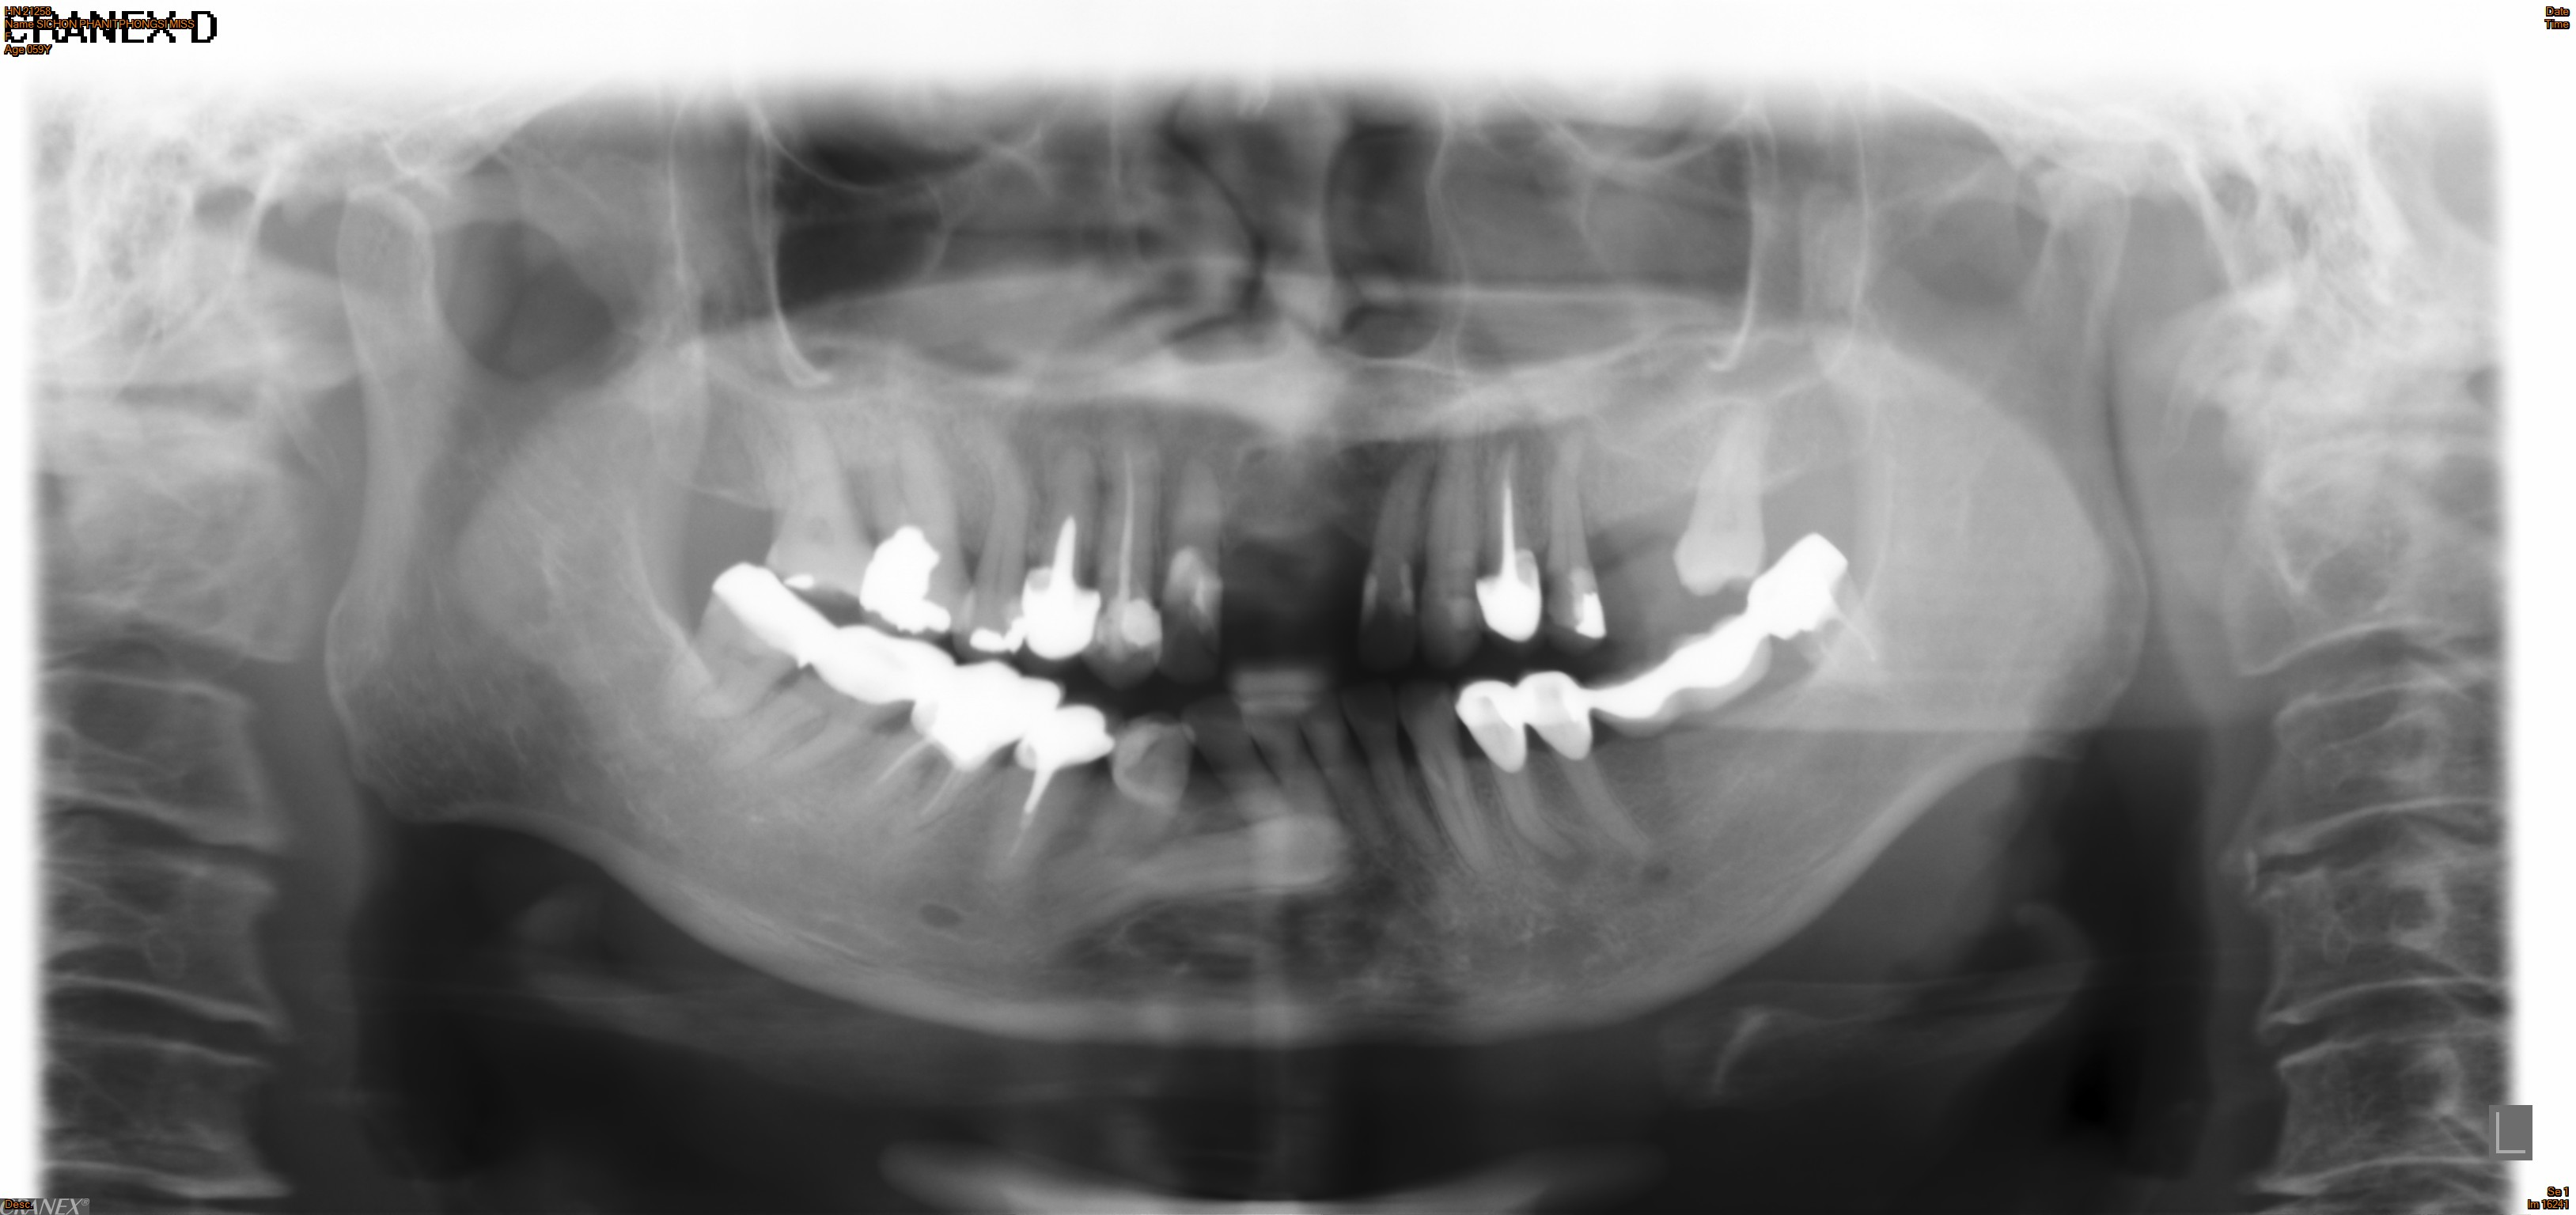periodontitis: (1666, 392, 1787, 603), (1528, 425, 1620, 662)
